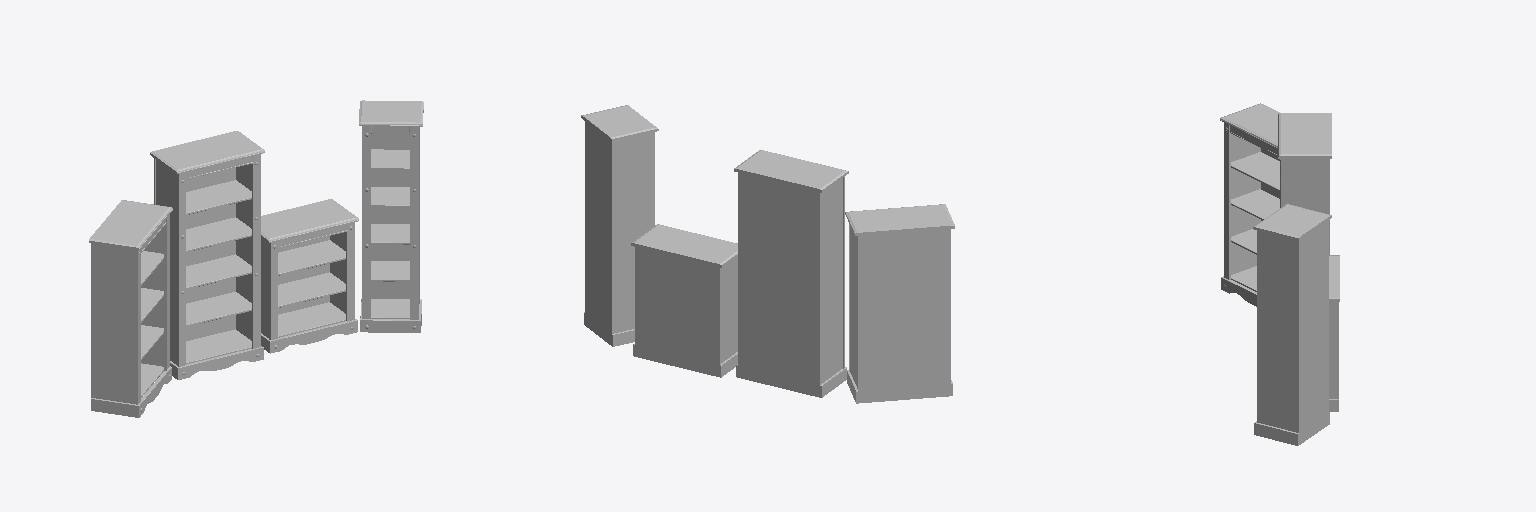
File: Corona  Bookcase Set.obj
3 renders of one model, left to right at view 1: azimuth 30°, elevation 25°; view 2: azimuth 150°, elevation 25°; view 3: azimuth 270°, elevation 25°, orthographic.
Parts seen in each view (by area): view 1: Corona_Seconique_Tall_Bookcase.003_Cube.021, Corona_Medium_Bookcase.003_Cube.019, Corona_Seconique_Tall_Bookcase.002_Cube.018, Corona_Low__Bookcase.002_Cube.020; view 2: Corona_Seconique_Tall_Bookcase.003_Cube.021, Corona_Medium_Bookcase.003_Cube.019, Corona_Low__Bookcase.002_Cube.020, Corona_Seconique_Tall_Bookcase.002_Cube.018; view 3: Corona_Seconique_Tall_Bookcase.002_Cube.018, Corona_Medium_Bookcase.003_Cube.019, Corona_Seconique_Tall_Bookcase.003_Cube.021, Corona_Low__Bookcase.002_Cube.020.
Part boxes in pixels (left/top/right/bottom): Corona_Seconique_Tall_Bookcase.003_Cube.021: left=150, top=131, right=264, bottom=379; Corona_Medium_Bookcase.003_Cube.019: left=89, top=200, right=172, bottom=417; Corona_Seconique_Tall_Bookcase.002_Cube.018: left=359, top=100, right=423, bottom=332; Corona_Low__Bookcase.002_Cube.020: left=261, top=199, right=358, bottom=353; Corona_Seconique_Tall_Bookcase.003_Cube.021: left=734, top=150, right=848, bottom=397; Corona_Medium_Bookcase.003_Cube.019: left=845, top=204, right=954, bottom=403; Corona_Low__Bookcase.002_Cube.020: left=631, top=224, right=737, bottom=377; Corona_Seconique_Tall_Bookcase.002_Cube.018: left=581, top=105, right=658, bottom=346; Corona_Seconique_Tall_Bookcase.002_Cube.018: left=1253, top=204, right=1331, bottom=445; Corona_Medium_Bookcase.003_Cube.019: left=1220, top=103, right=1280, bottom=306; Corona_Seconique_Tall_Bookcase.003_Cube.021: left=1278, top=113, right=1331, bottom=254; Corona_Low__Bookcase.002_Cube.020: left=1329, top=255, right=1339, bottom=411.
Size of the model in its own units: 3.24 by 1.83 by 0.9547.